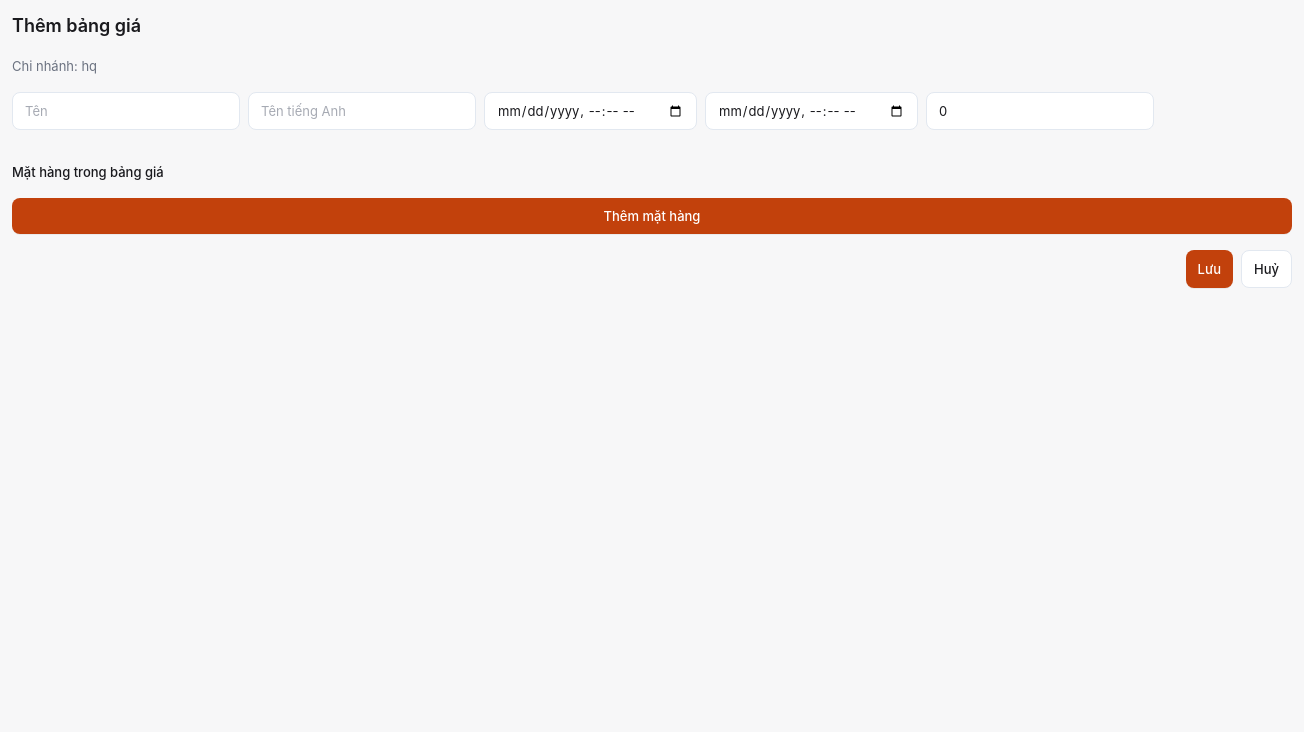
PriceListEditor › refuses an entry that has a product but no price
The width and height of the screenshot is (1304, 732).
Type "Giờ vàng" into the field with placeholder "Tên" at (126, 111), box [12,92,240,130]
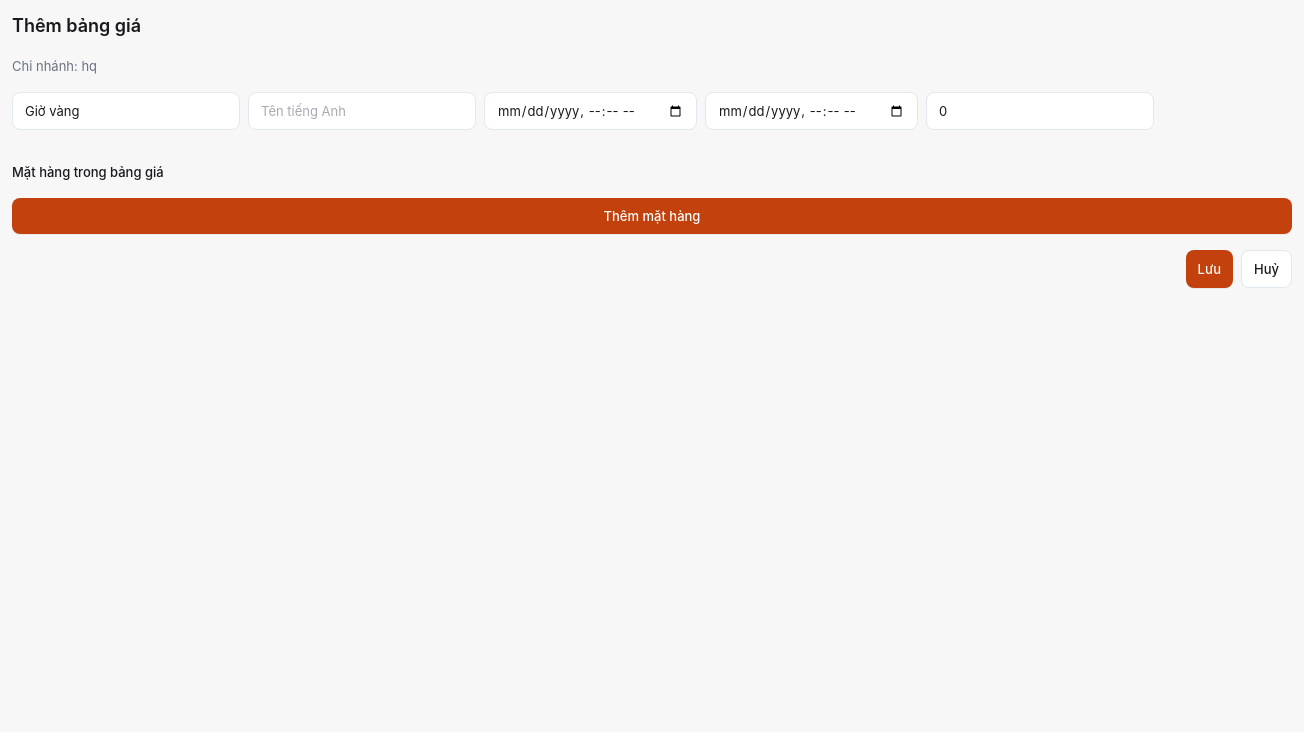
Type "2026-10-22T14:00" into the field with placeholder "Bắt đầu" at (590, 111), box [484,92,697,130]
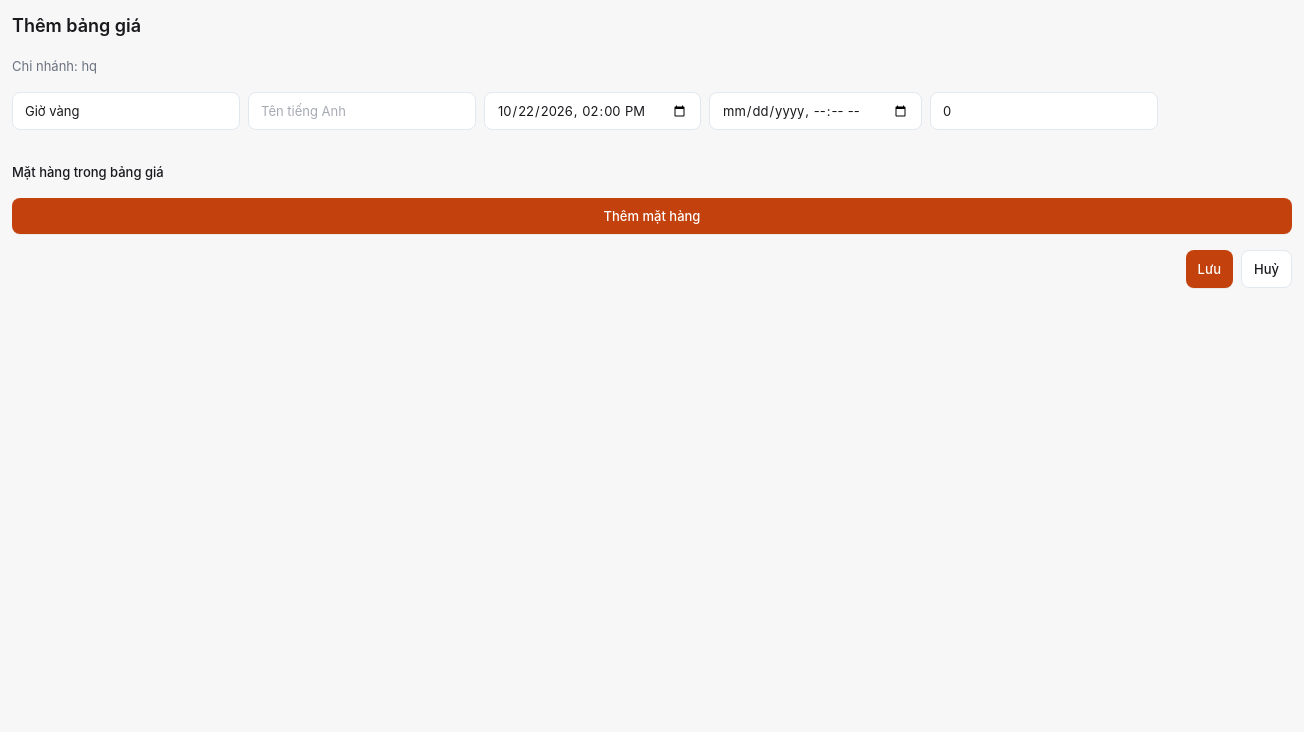
Click the button "Thêm mặt hàng" at (652, 216), box [12,198,1292,234]
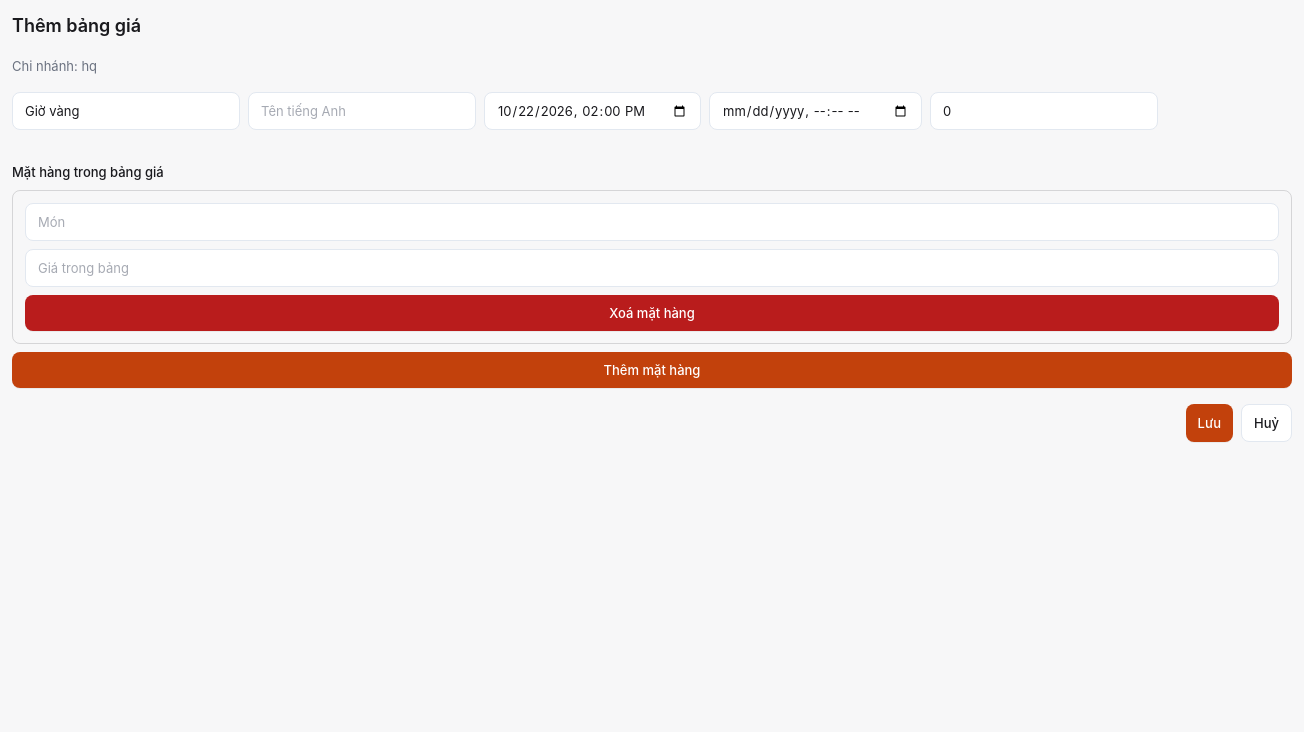
Click the dropdown labelled "Món" at (52, 222), box [25,203,1279,241]
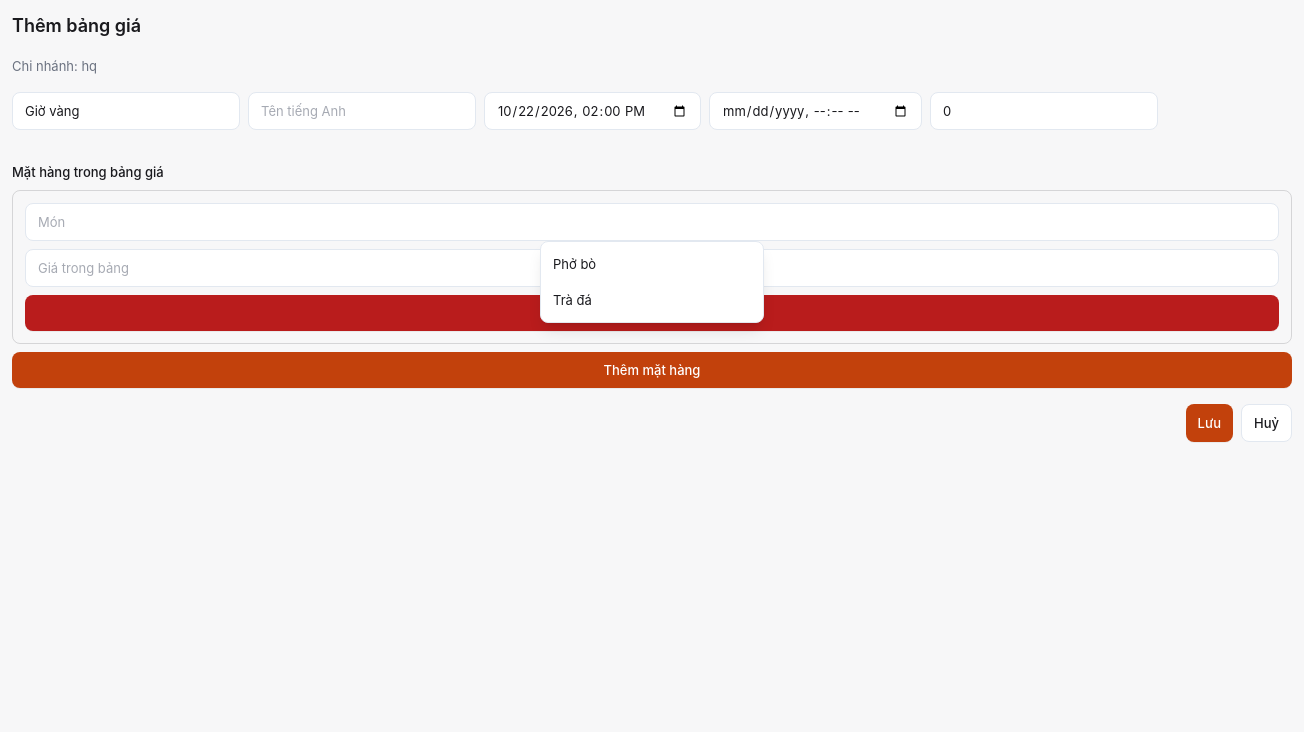
Click the option "Phở bò" at (575, 264), box [553,256,596,272]
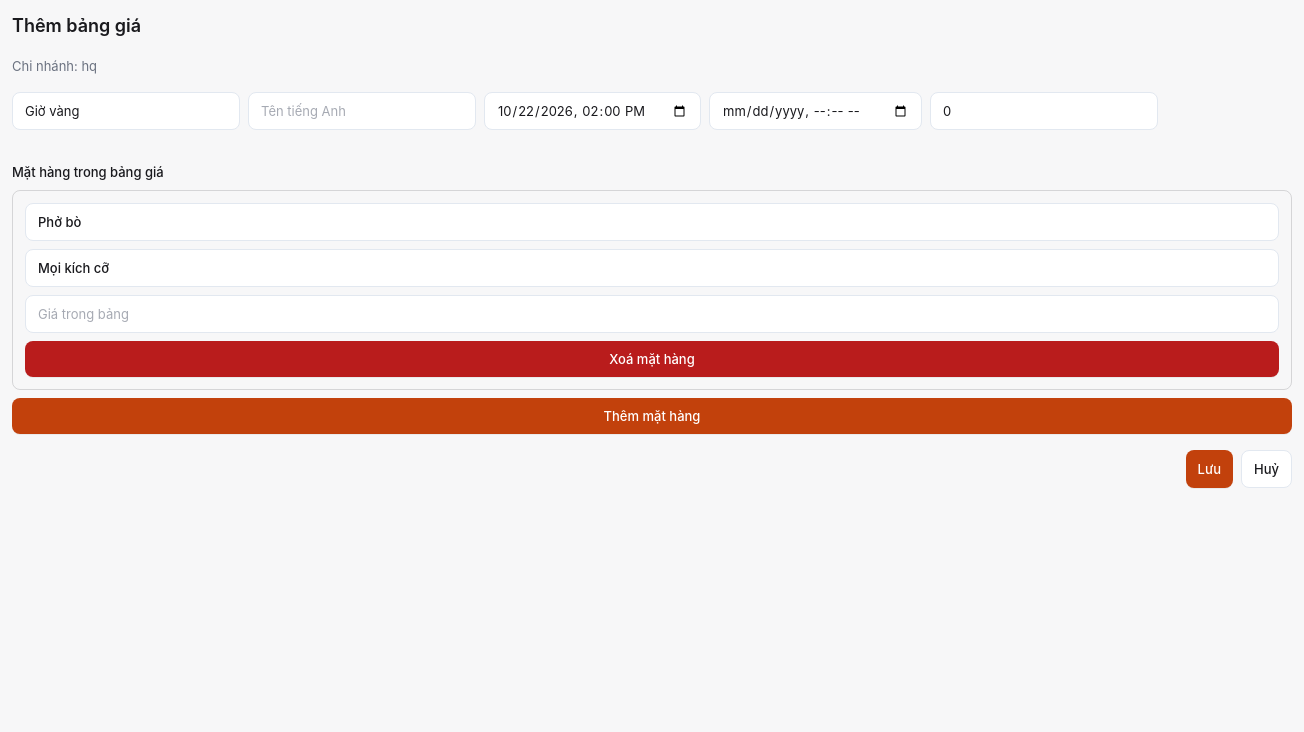
Submit the form, box [12,92,1292,488]
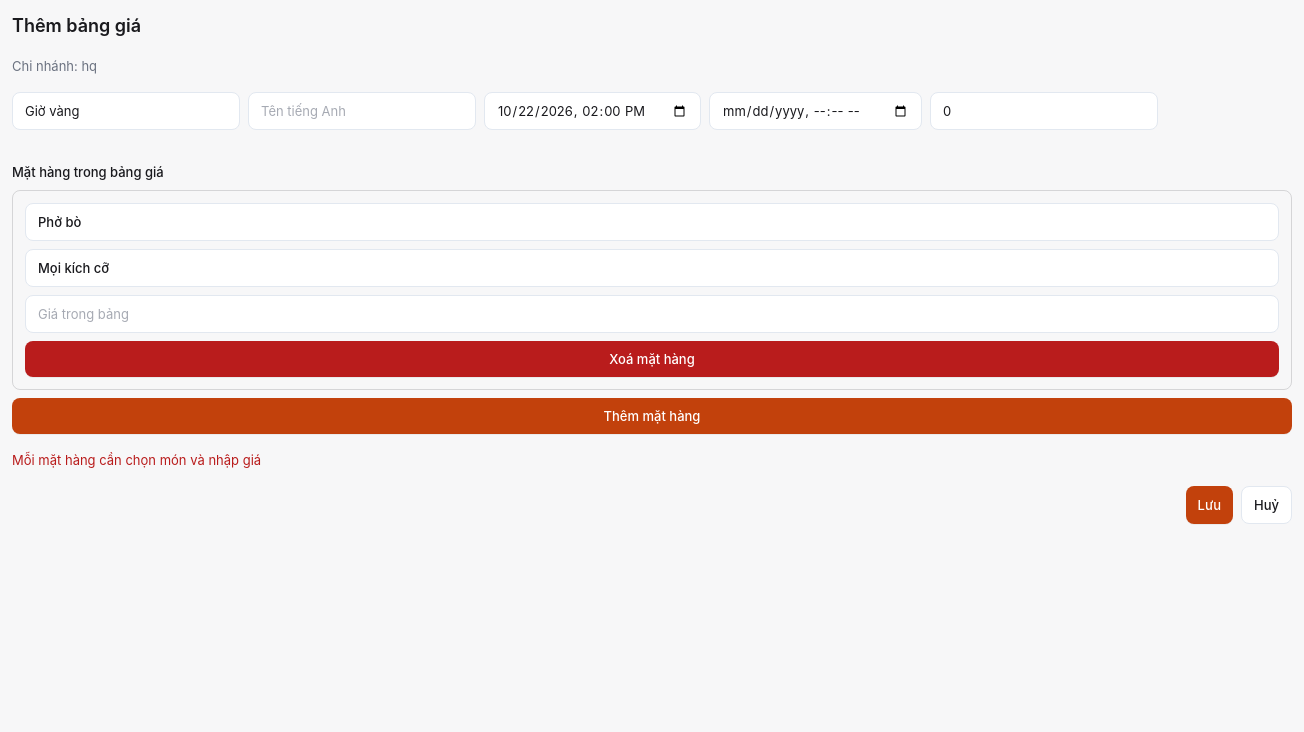
Expected: the message "Mỗi mặt hàng cần chọn món và nhập giá" is shown, [12,452,261,468]
